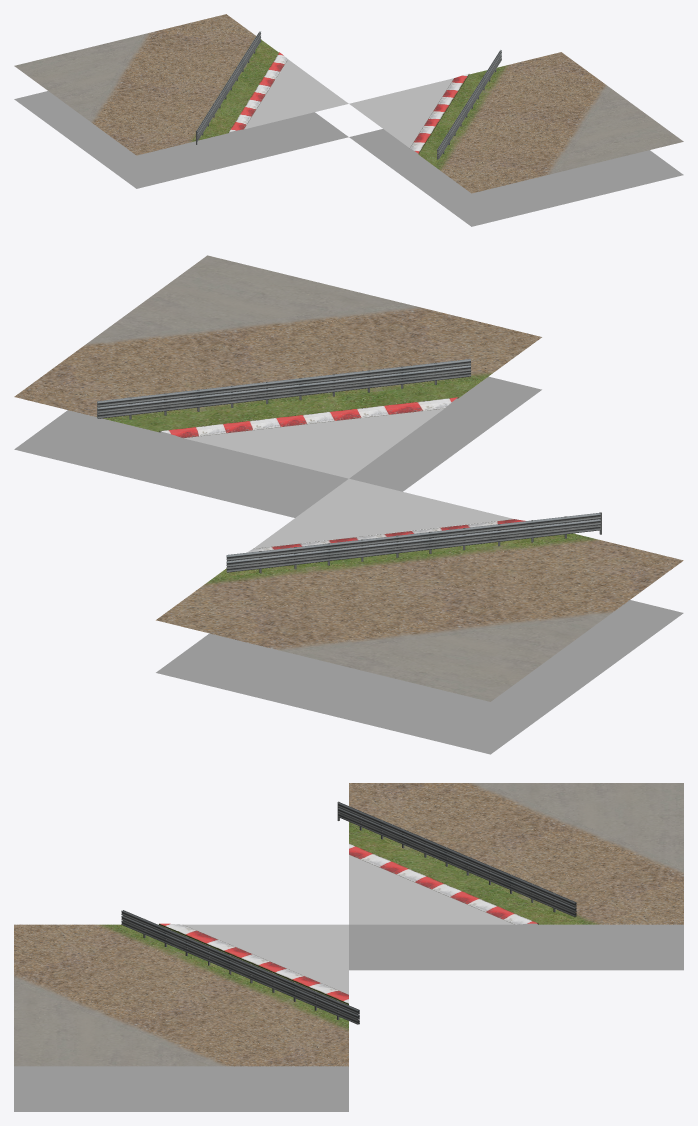
File: Track_Straight_45Degree_Joiner_Gravel.fbx
The picture shows the model from 3 angles, top to bottom: view 1: azimuth 30°, elevation 25°; view 2: azimuth 150°, elevation 25°; view 3: azimuth 270°, elevation 25°; orthographic projection. The views are drawn at different scales.
Parts seen in each view (by area): view 1: Snap_Plane_Invisible, Gravel_B, Gravel_A, Road, Concrete_A, Concrete_B, Grass, Curb_A, Curb_B, Rail_A, Rail_B; view 2: Snap_Plane_Invisible, Gravel_A, Gravel_B, Road, Concrete_A, Concrete_B, Rail_A, Rail_B, Grass, Curb_B, Curb_A; view 3: Snap_Plane_Invisible, Gravel_B, Gravel_A, Road, Concrete_B, Concrete_A, Grass, Rail_A, Rail_B, Curb_A, Curb_B.
Part boxes in pixels (bbox=[...]): Snap_Plane_Invisible: bbox=[14, 91, 683, 226]; Gravel_B: bbox=[435, 52, 611, 193]; Gravel_A: bbox=[87, 14, 262, 155]; Road: bbox=[244, 59, 453, 147]; Concrete_A: bbox=[14, 35, 139, 118]; Concrete_B: bbox=[558, 89, 683, 172]; Grass: bbox=[200, 41, 497, 166]; Curb_A: bbox=[228, 52, 287, 132]; Curb_B: bbox=[410, 74, 469, 153]; Rail_A: bbox=[196, 31, 261, 144]; Rail_B: bbox=[437, 50, 501, 159]; Snap_Plane_Invisible: bbox=[14, 376, 683, 754]; Gravel_A: bbox=[156, 536, 683, 653]; Gravel_B: bbox=[14, 304, 541, 421]; Road: bbox=[184, 408, 513, 548]; Concrete_A: bbox=[293, 618, 604, 701]; Concrete_B: bbox=[93, 255, 405, 338]; Rail_A: bbox=[226, 512, 601, 573]; Rail_B: bbox=[97, 359, 471, 419]; Grass: bbox=[115, 379, 582, 577]; Curb_B: bbox=[159, 397, 458, 438]; Curb_A: bbox=[247, 519, 525, 552]; Snap_Plane_Invisible: bbox=[14, 869, 683, 1111]; Gravel_B: bbox=[14, 924, 348, 1066]; Gravel_A: bbox=[349, 783, 683, 924]; Road: bbox=[183, 855, 513, 994]; Concrete_B: bbox=[14, 982, 211, 1066]; Concrete_A: bbox=[485, 783, 683, 866]; Grass: bbox=[114, 826, 583, 1023]; Rail_A: bbox=[337, 801, 576, 916]; Rail_B: bbox=[121, 910, 359, 1024]; Curb_A: bbox=[349, 843, 538, 924]; Curb_B: bbox=[159, 923, 348, 1004].
Bounding box in the file's own units: 40 × 4.24 × 40.
